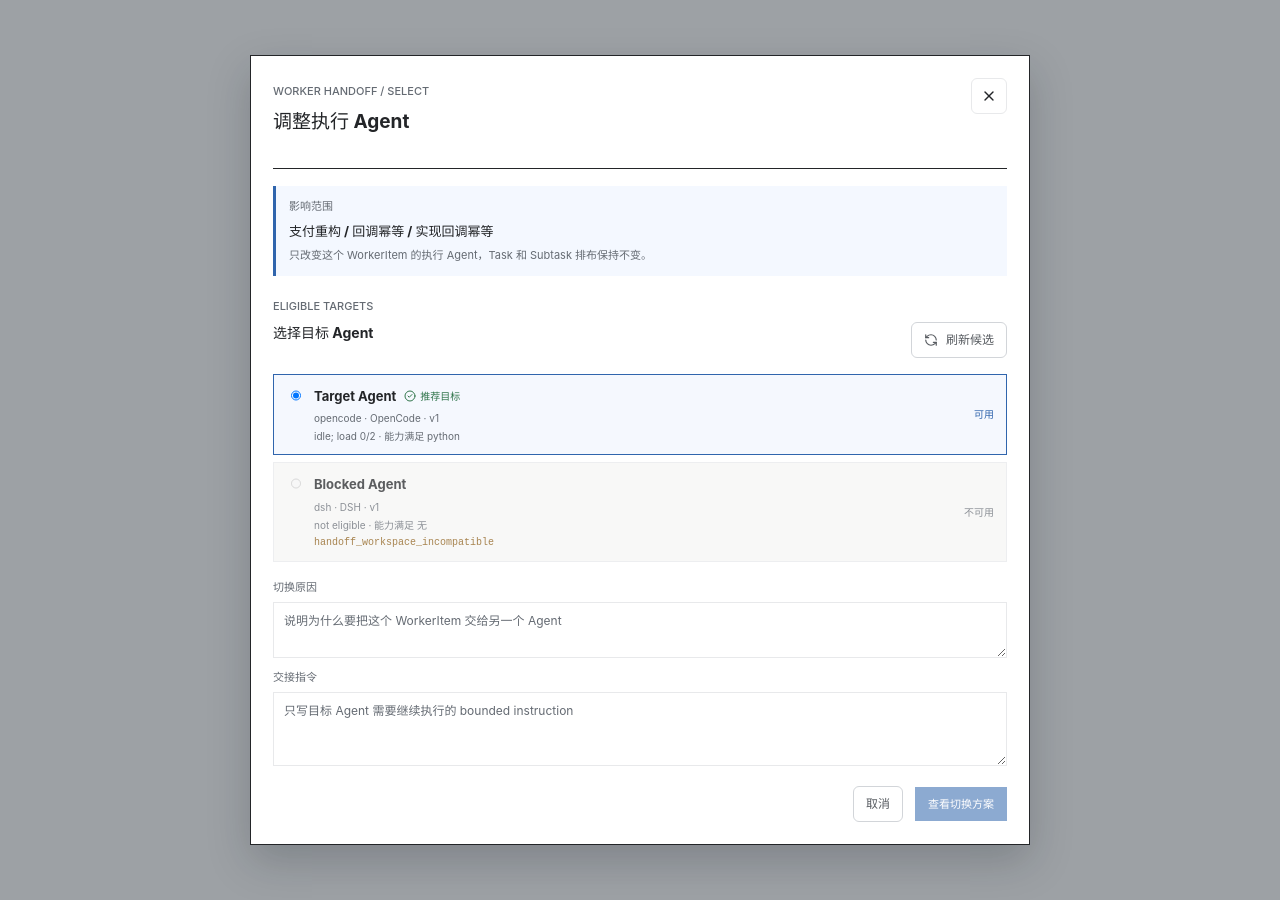
Test: HandoffDialog › keeps the chooser in the current tab, preserves draft fields, and reviews bounded facts
This screenshot has width=1280, height=900.
Expected: the radio button labelled "Blocked Agent" is disabled, [291,477,301,490]
Expected: the text "推荐目标" is shown, [404,388,460,405]
Click the radio button labelled "Target Agent" at (296, 395), box [291,389,301,402]
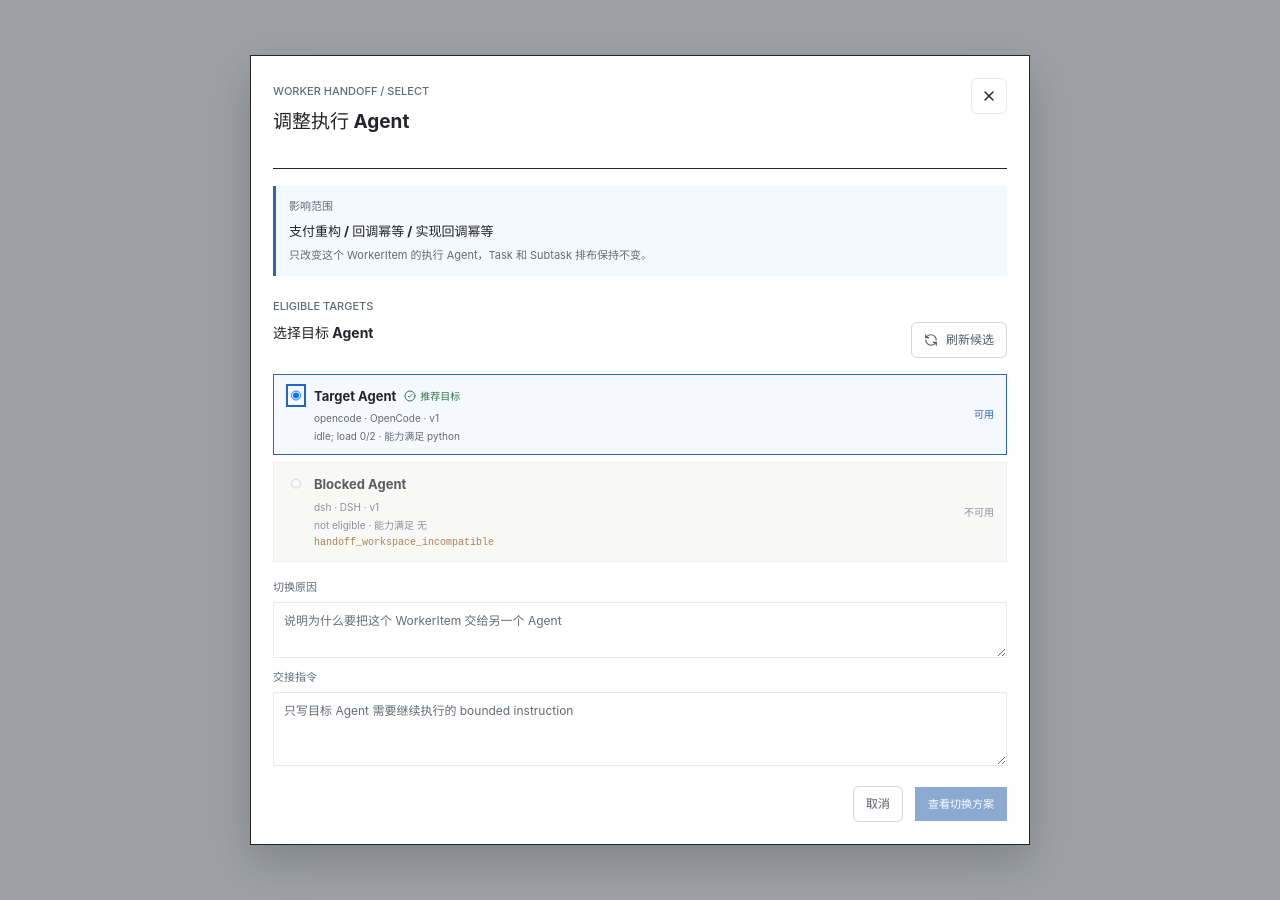
Type "需要专门的 Agent" into the text box labelled "切换原因" at (640, 630), box [273,602,1007,658]
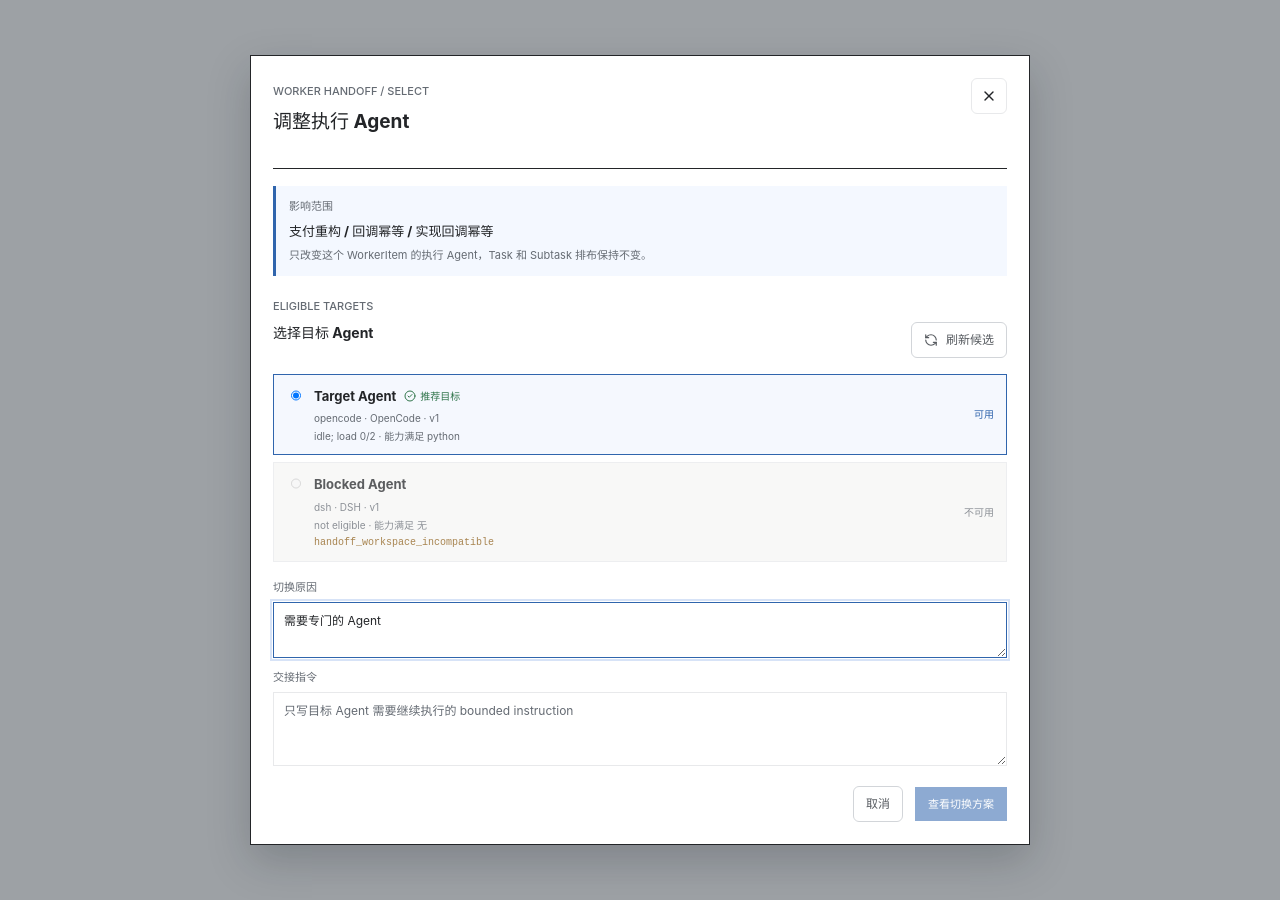
Type "保留测试上下文" into the text box labelled "交接指令" at (640, 729), box [273,692,1007,766]
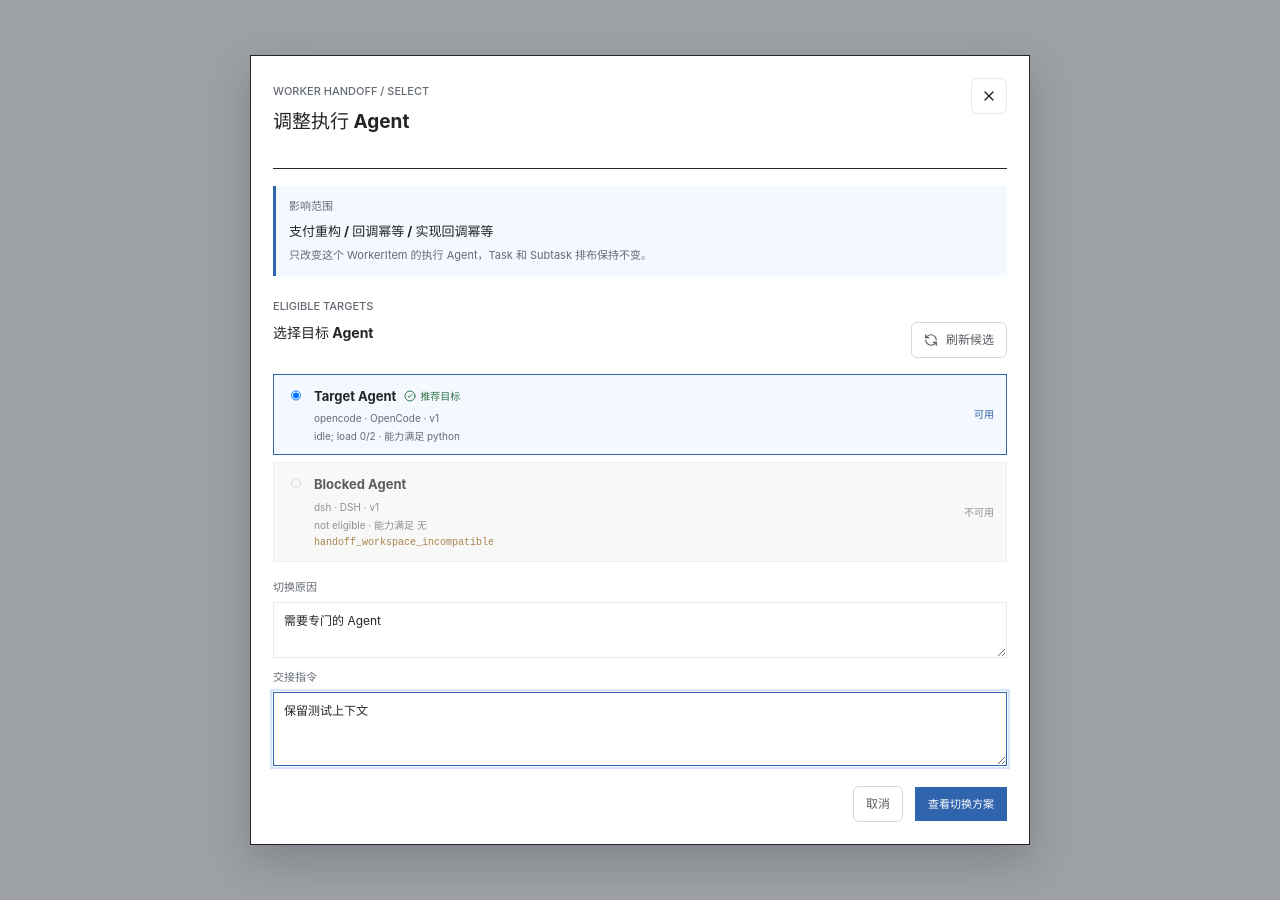
Click the button "刷新候选" at (959, 340), box [911,322,1007,358]
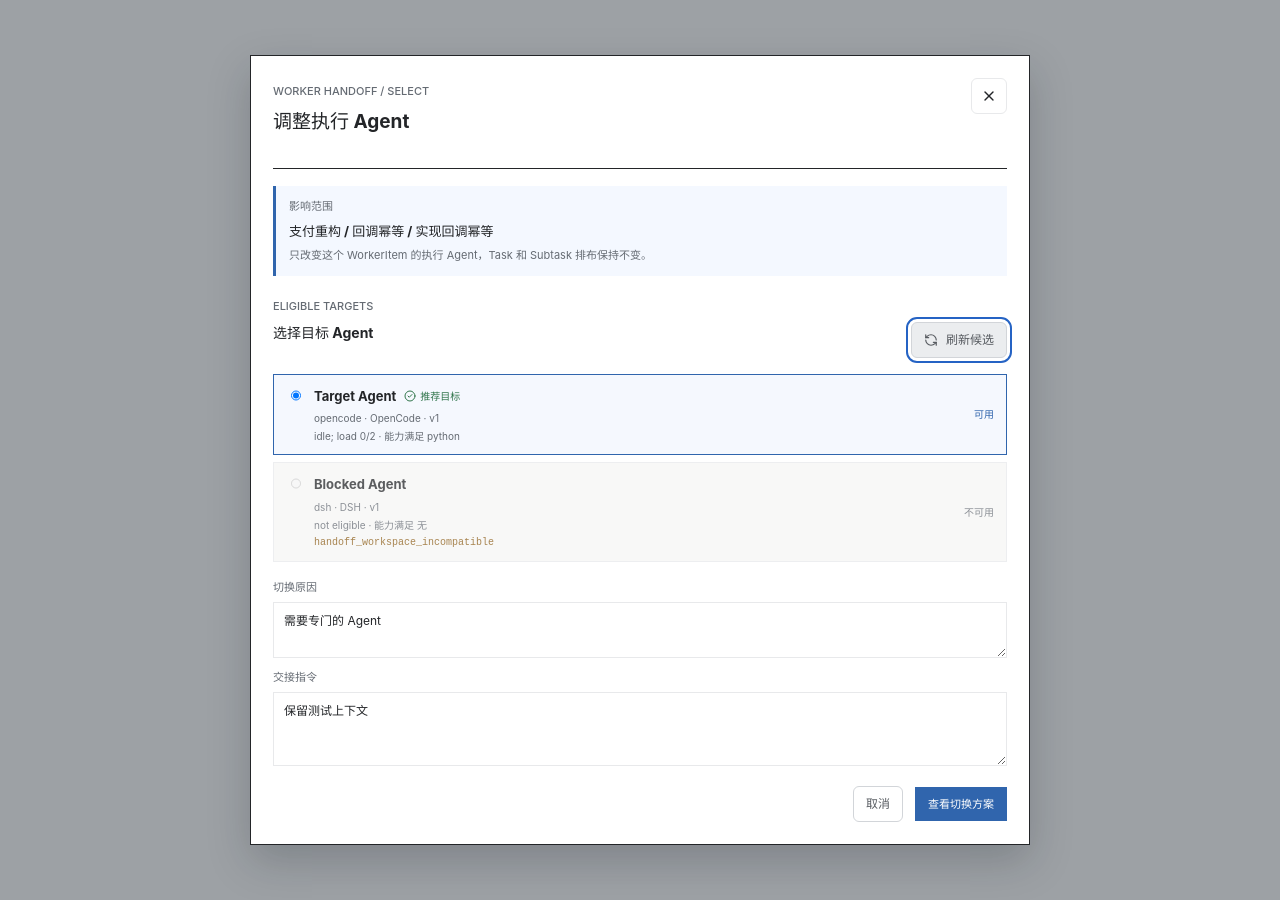
Click the button "查看切换方案" at (961, 804), box [915,787,1007,821]
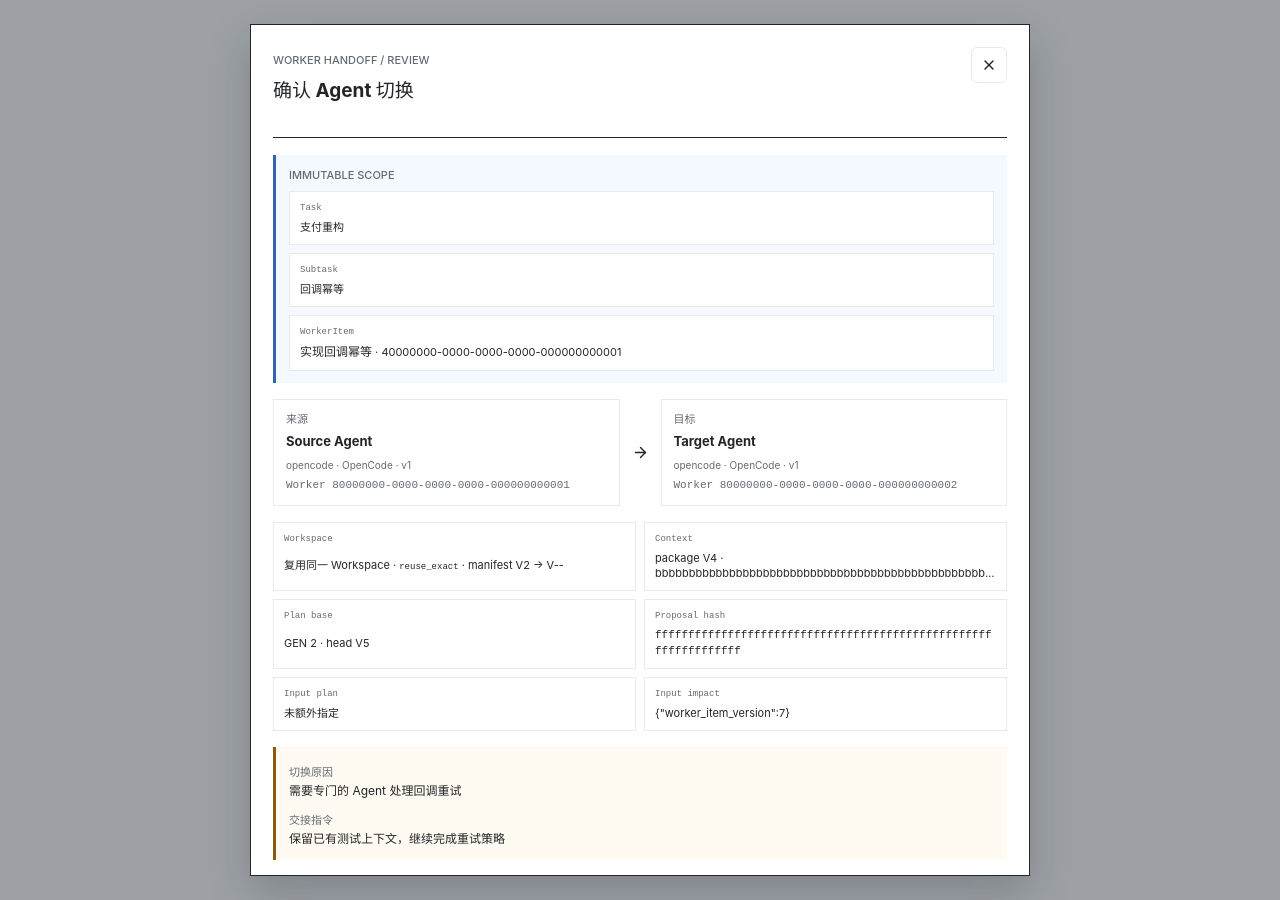
Expected: the text "Source Agent" is shown, [286,433,372,449]
Expected: the text "Target Agent" is shown, [674,433,756,449]
Expected: the text "reuse_exact" is shown, [399,562,459,572]
